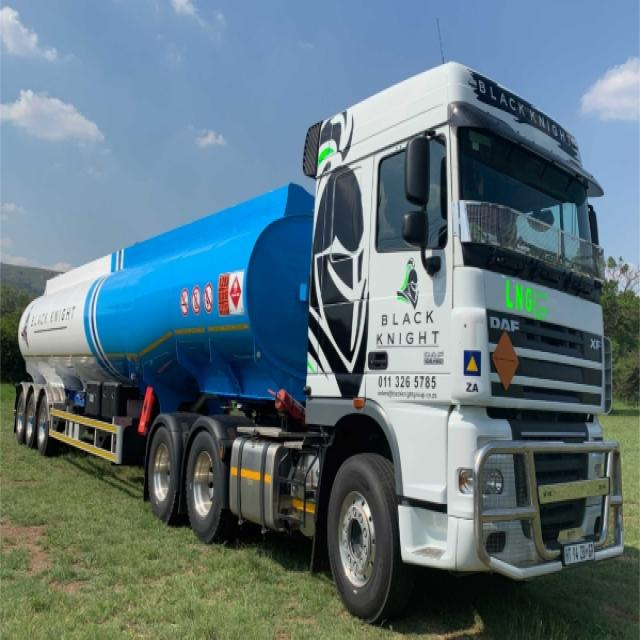Heavy Duty Truck: (14, 62, 626, 634)
